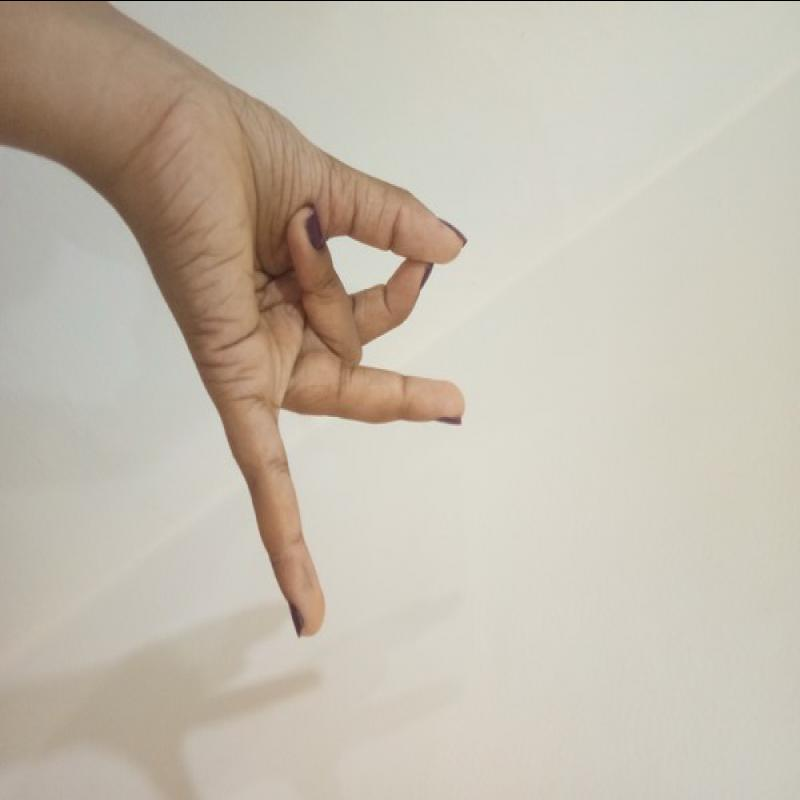Katakam: (61, 100, 499, 648)
